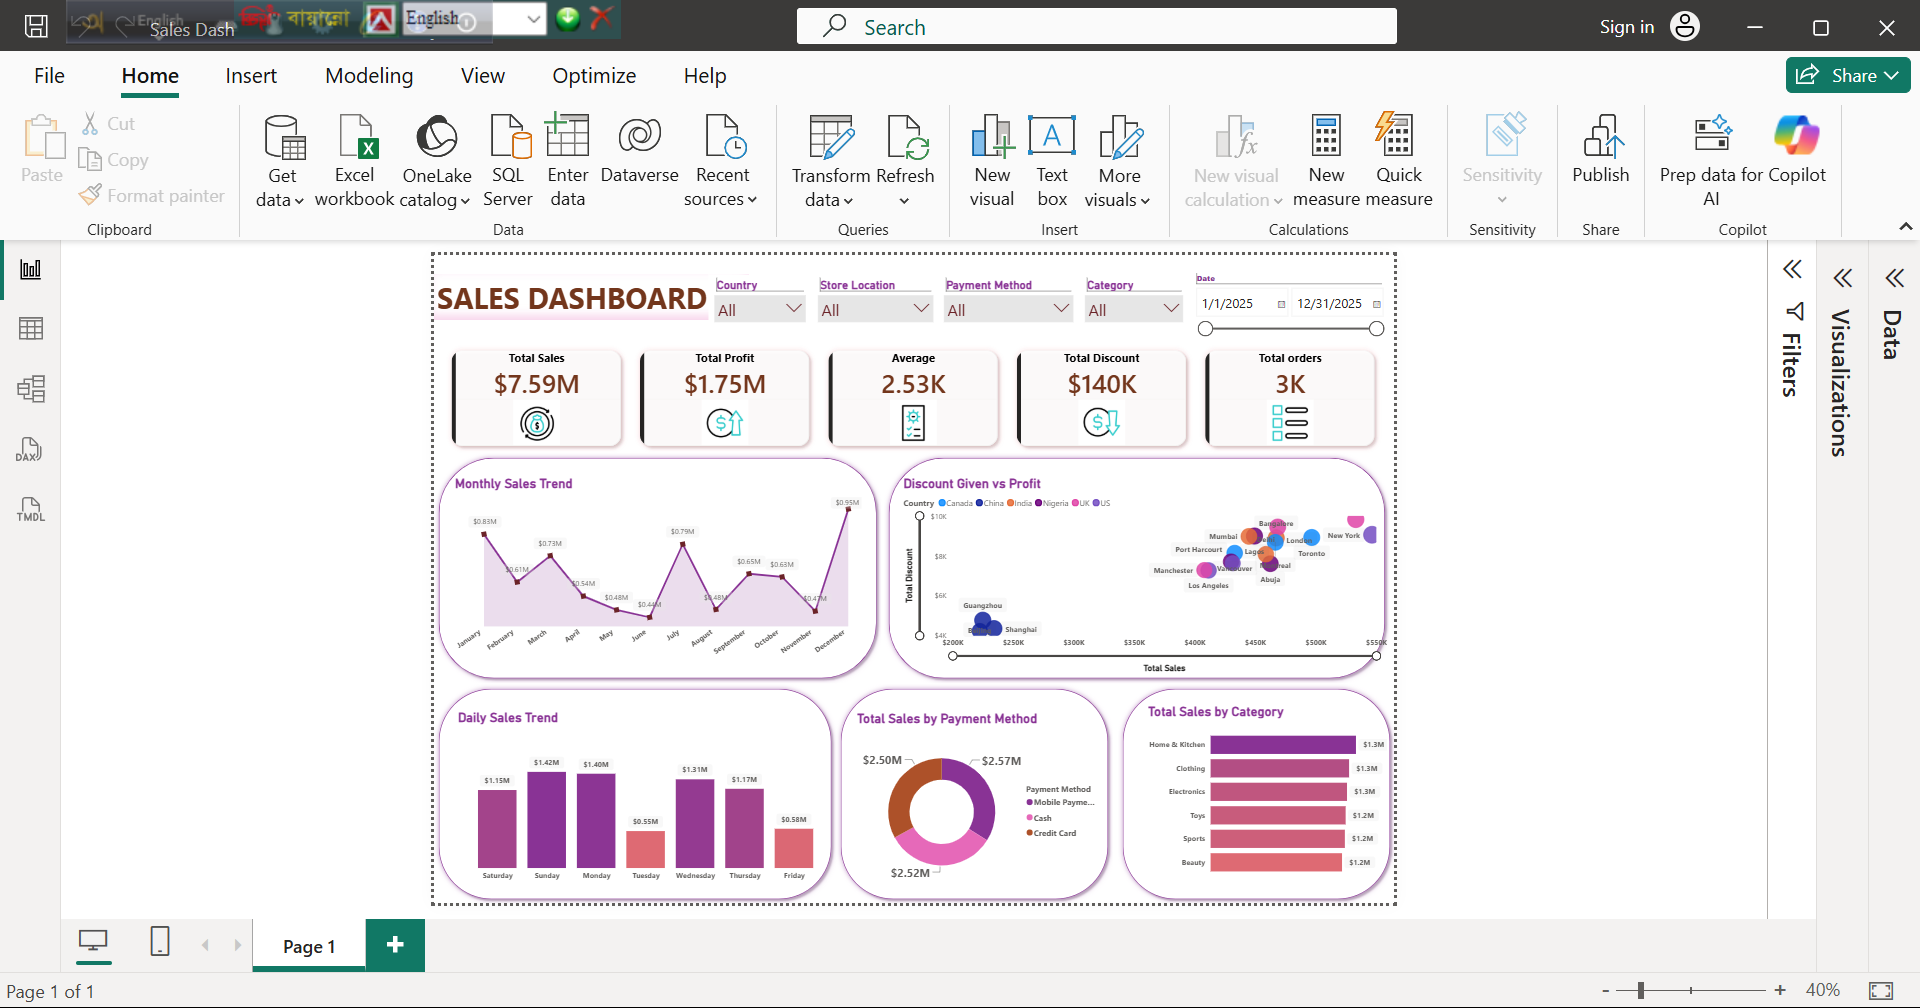

This screenshot's page, from the dashboard's own definition file:
{"tool":"powerbi","page":{"name":"Page 1","canvas":[1600,1080],"ordinal":0},"visuals":[{"type":"cardVisual","fields":{"Data":["public Sales Data.Total Sales","public Sales Data.Total Profit","public Sales Data.Average","public Sales Data.Total Discount","public Sales Data.Total orders"]},"box":[0,129.9,1599.2,217.3],"z":0},{"type":"textbox","box":[0,33.1,524.4,75.6],"z":1000},{"type":"slicer","fields":{"Values":["public Sales Data.Country"]},"box":[458.3,33.3,171.7,96.7],"z":2000},{"type":"slicer","fields":{"Values":["public Sales Data.Store Location"]},"box":[630,33.3,211.7,96.7],"z":3000},{"type":"slicer","fields":{"Values":["public Sales Data.Payment Method"]},"box":[840,33.3,235,96.7],"z":4000},{"type":"slicer","fields":{"Values":["public Sales Data.Category"]},"box":[1075,33.3,183.3,96.7],"z":5000},{"type":"slicer","fields":{"Values":["public Sales Data.Date"]},"box":[1258.3,25,335,111.7],"z":6000},{"type":"shape","box":[0,330.3,745.7,383.8],"z":7000},{"type":"areaChart","title":" Monthly Sales Trend","fields":{"Category":["public Sales Data.Month Name"],"Y":["public Sales Data.Total Sales"]},"box":[29.1,366.8,687.4,318.2],"z":8000},{"type":"shape","box":[0,714.1,670.4,366.8],"z":9000},{"type":"columnChart","title":"Daily Sales Trend","fields":{"Category":["public Sales Data.Day Name"],"Y":["public Sales Data.Total Sales"]},"box":[34,757.8,636.4,293.9],"z":10000},{"type":"shape","box":[670.4,714.1,461.5,366.8],"z":11000},{"type":"donutChart","fields":{"Category":["public Sales Data.Payment Method"],"Y":["public Sales Data.Total Sales"]},"box":[699.5,760.2,422.6,310.9],"z":12000},{"type":"shape","box":[750.5,330.3,842.8,383.8],"z":13000},{"type":"scatterChart","title":"Discount Given vs Profit","fields":{"Category":["public Sales Data.Store Location"],"Y":["public Sales Data.Total Discount"],"X":["public Sales Data.Total Sales"],"Series":["public Sales Data.Country"],"Size":["public Sales Data.Total orders"]},"box":[777.2,366.8,816.1,332.8],"z":14000},{"type":"shape","box":[1139.1,714.1,461.5,366.8],"z":15000},{"type":"barChart","fields":{"Category":["public Sales Data.Category"],"Y":["public Sales Data.Total Sales"]},"box":[1185.3,748.1,408,301.2],"z":16000}]}

Visuals, with their boxes on the page's 1600x1080 design canvas (x1, y1, x2, y2). These are canvas units, not pixel positions in the 1920x1008 screenshot, which may show the page scaled, cropped or inside an application window:
cardVisual - public Sales Data.Total Sales x public Sales Data.Total Profit: {"left": 0, "top": 130, "right": 1599, "bottom": 347}
textbox: {"left": 0, "top": 33, "right": 524, "bottom": 109}
slicer - public Sales Data.Country: {"left": 458, "top": 33, "right": 630, "bottom": 130}
slicer - public Sales Data.Store Location: {"left": 630, "top": 33, "right": 842, "bottom": 130}
slicer - public Sales Data.Payment Method: {"left": 840, "top": 33, "right": 1075, "bottom": 130}
slicer - public Sales Data.Category: {"left": 1075, "top": 33, "right": 1258, "bottom": 130}
slicer - public Sales Data.Date: {"left": 1258, "top": 25, "right": 1593, "bottom": 137}
shape: {"left": 0, "top": 330, "right": 746, "bottom": 714}
" Monthly Sales Trend" areaChart: {"left": 29, "top": 367, "right": 716, "bottom": 685}
shape: {"left": 0, "top": 714, "right": 670, "bottom": 1081}
"Daily Sales Trend" columnChart: {"left": 34, "top": 758, "right": 670, "bottom": 1052}
shape: {"left": 670, "top": 714, "right": 1132, "bottom": 1081}
donutChart - public Sales Data.Payment Method x public Sales Data.Total Sales: {"left": 700, "top": 760, "right": 1122, "bottom": 1071}
shape: {"left": 750, "top": 330, "right": 1593, "bottom": 714}
"Discount Given vs Profit" scatterChart: {"left": 777, "top": 367, "right": 1593, "bottom": 700}
shape: {"left": 1139, "top": 714, "right": 1601, "bottom": 1081}
barChart - public Sales Data.Category x public Sales Data.Total Sales: {"left": 1185, "top": 748, "right": 1593, "bottom": 1049}
